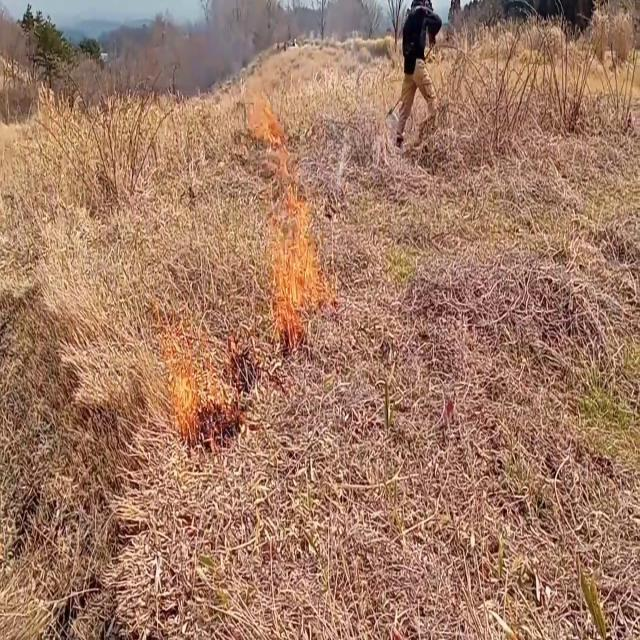Fire: (249, 83, 330, 337)
